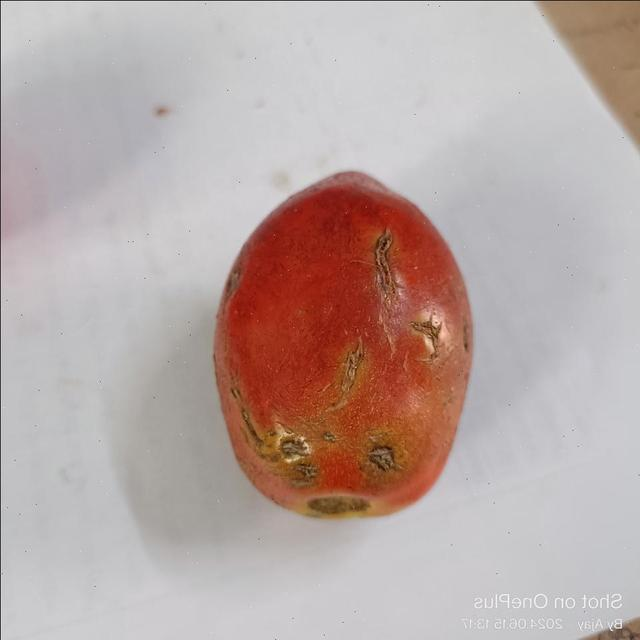Bacterial Spot Fruit: (11, 9, 285, 305)
